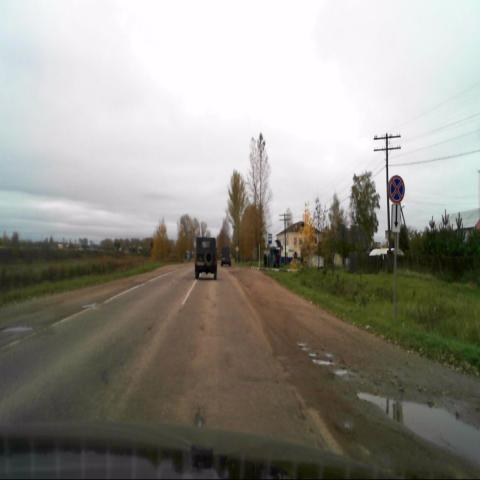3_27: (389, 176, 405, 204)
